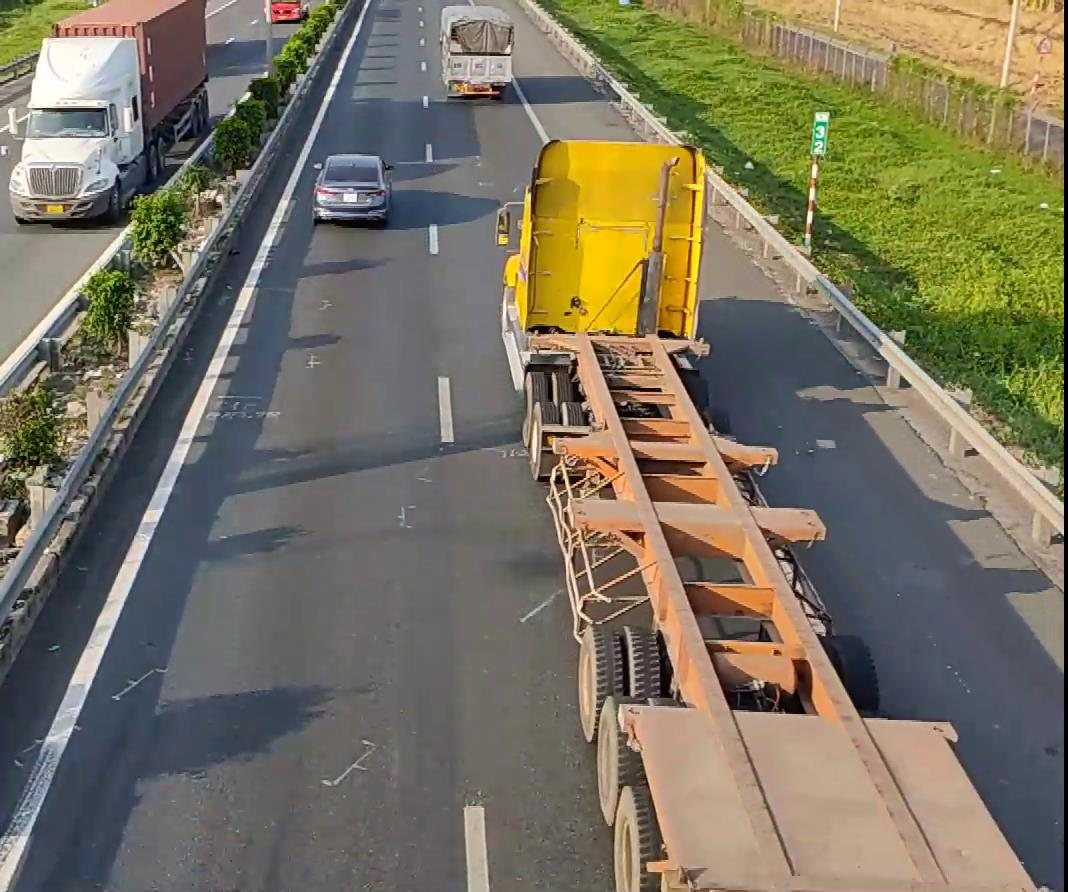car: (310, 152, 391, 225)
container: (490, 132, 1042, 888), (9, 0, 212, 222)
truck: (437, 1, 514, 99)
